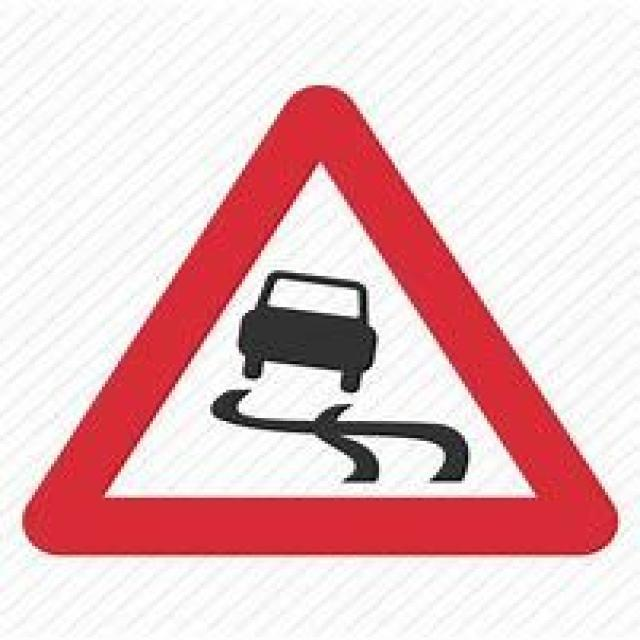slippery road: (25, 85, 616, 556)
